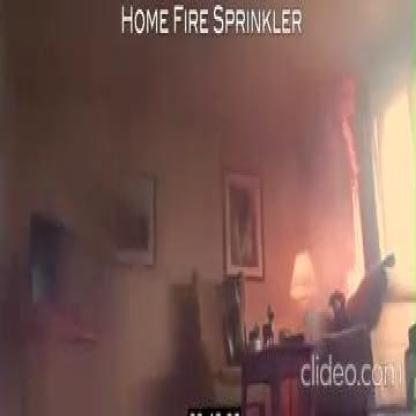fire: (330, 85, 367, 296)
